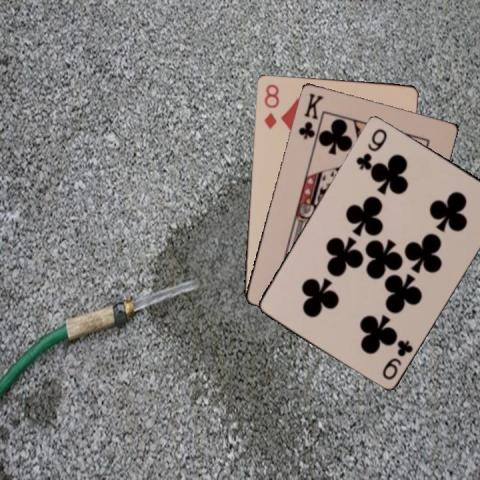8d: (261, 81, 280, 130)
9c: (352, 125, 388, 171), (379, 336, 414, 381)
Kc: (295, 89, 324, 141)
